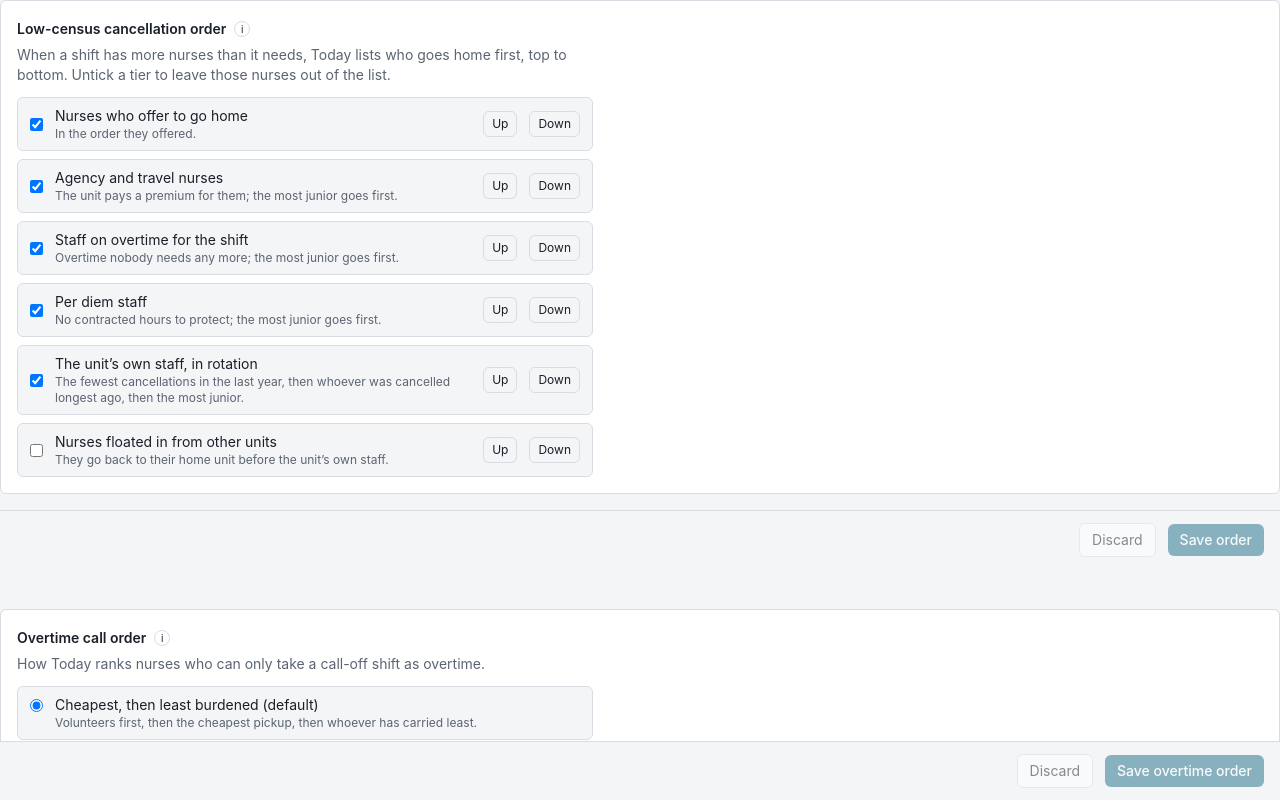
Settings › the low-census cancellation order › will not save an order with every tier removed
Click the checkbox labelled "Nurses who offer to go home In the order they offered." at coordinates (36, 124), box x1=30 y1=118 x2=43 y2=130
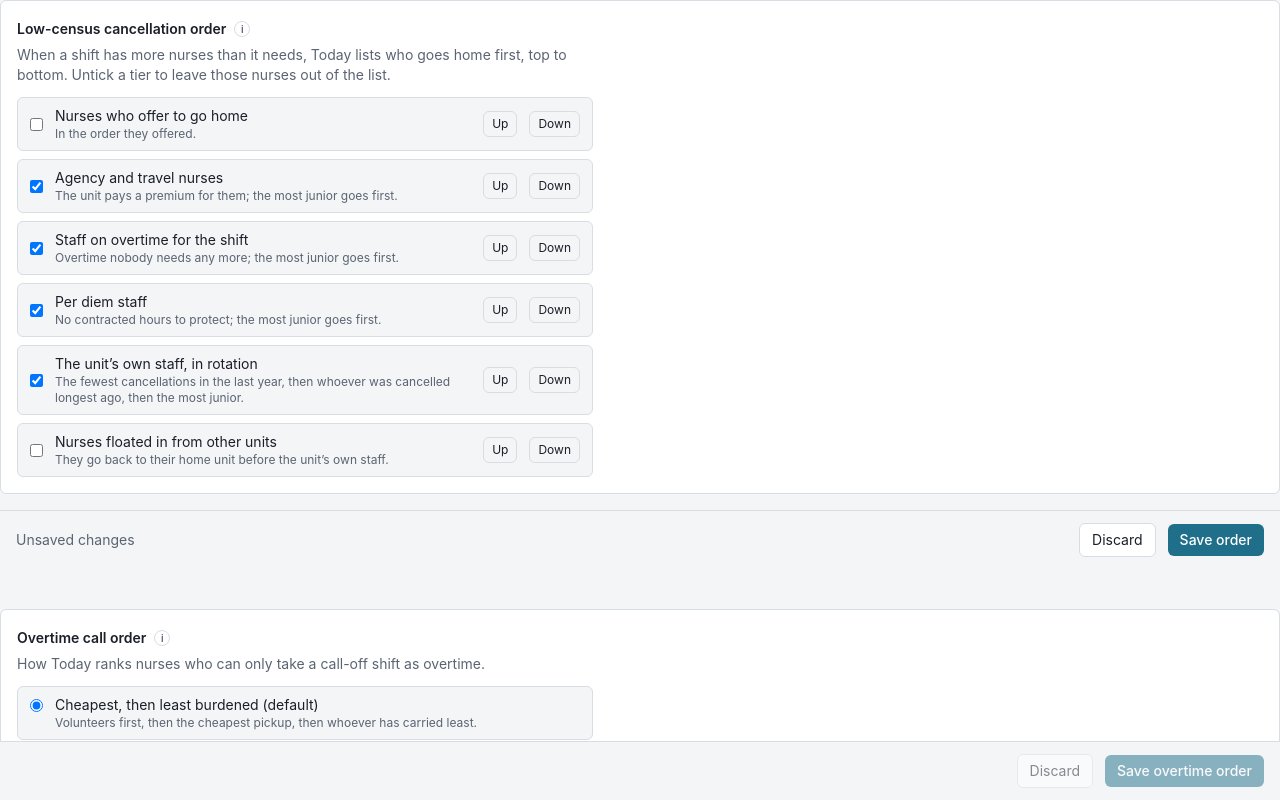
Click the checkbox labelled "Agency and travel nurses" at coordinates (36, 186), box x1=30 y1=180 x2=43 y2=192
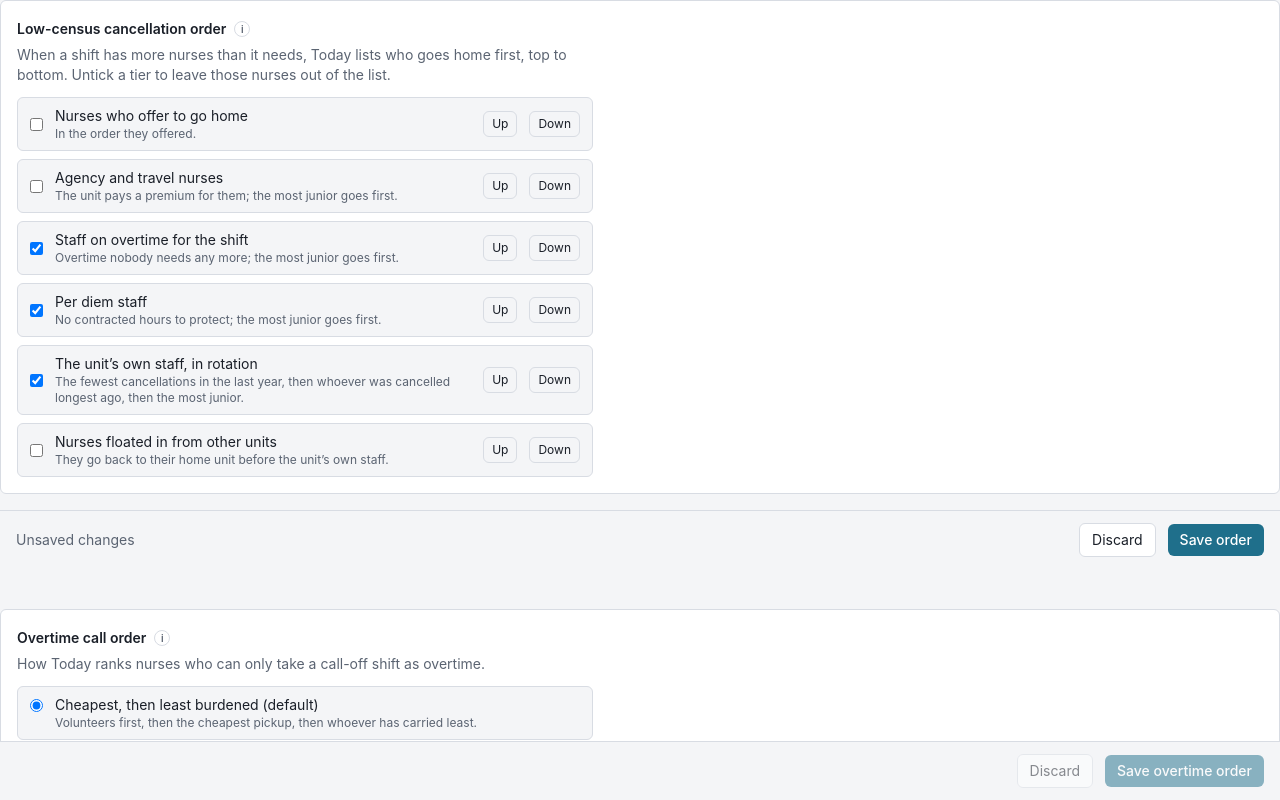
Click the 3rd checkbox at coordinates (36, 248), box x1=30 y1=242 x2=43 y2=254
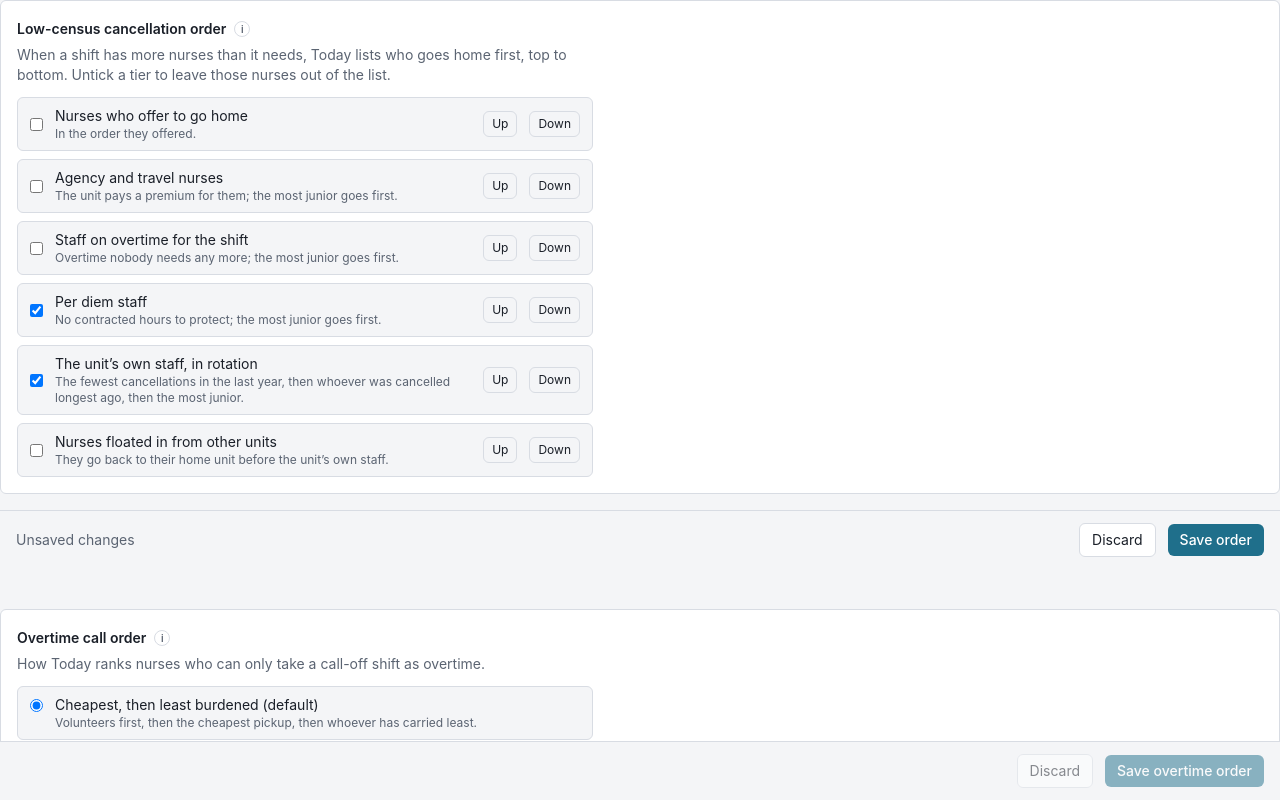
Click the 4th checkbox at coordinates (36, 310), box x1=30 y1=304 x2=43 y2=316
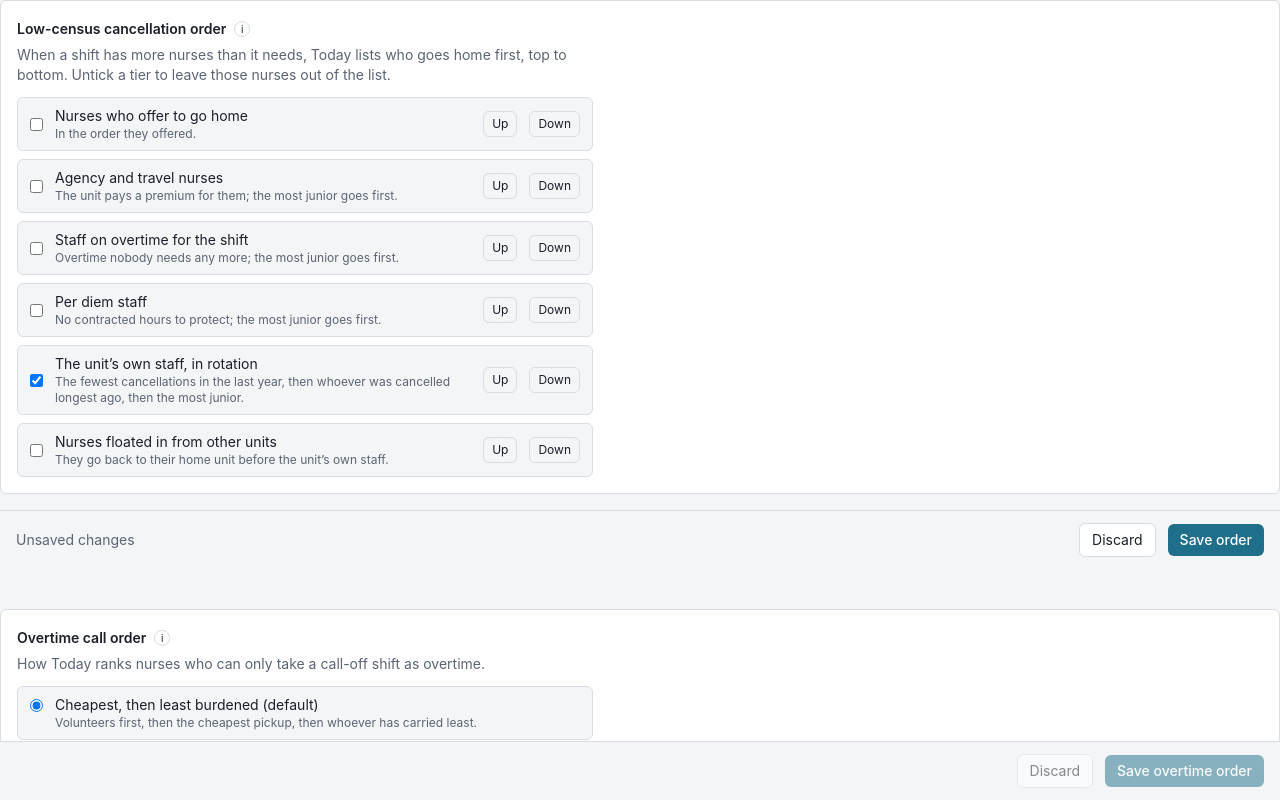
Click the 5th checkbox at coordinates (36, 380), box x1=30 y1=374 x2=43 y2=386
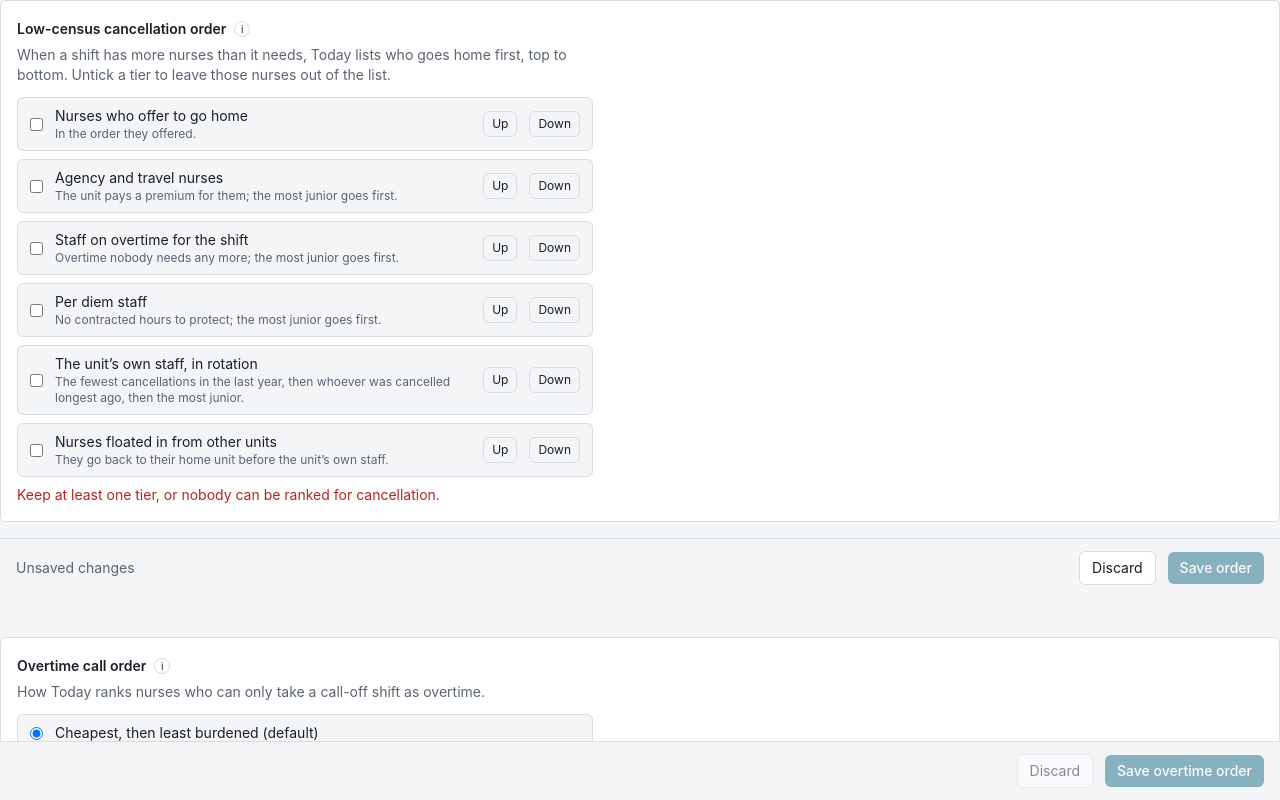
Result: the button "Save order" is disabled at x1=1168 y1=552 x2=1264 y2=584
Result: the text "Keep at least one tier, or nobody can be ranked for cancellation." is shown at x1=17 y1=486 x2=440 y2=503
